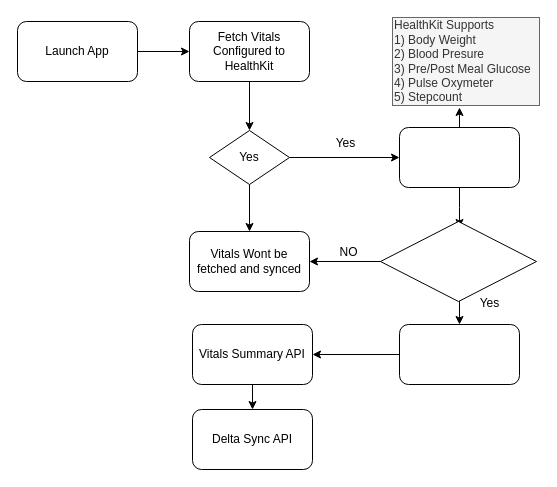
This 557x487 diagram has some shape labels left out. Each missing label, with the centre of its shape:
API to register vita Via HealthKit requestAuthorization(): (459,157)
Sync Vitals from HK: (459,354)
Vital Consents Screen Shown: (458,261)
